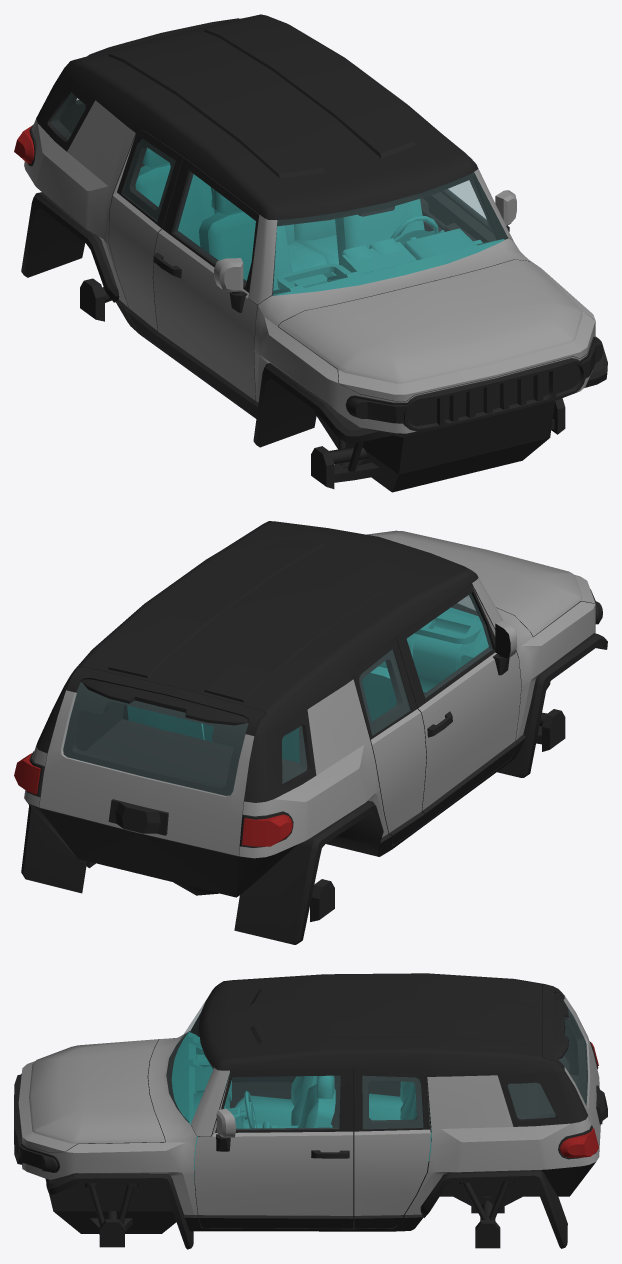
The model's file is Offroad_2.FBX.
3 views of the same model, one above another, from view 1: azimuth 30°, elevation 25°; view 2: azimuth 150°, elevation 25°; view 3: azimuth 270°, elevation 25° (orthographic). The views are drawn at different scales.
Parts seen in each view (by area): view 1: Offroad_2_Roof, Offroad_2, Offroad_2_Hood, Offroad_Dashboard, Offroad_2_Window_F, Offroad_2_Door_FR, Offroad_2_Door_RR, Offroad_2_Window_FR, Offroad_2_Suspension, Offroad_2_Door_FL, Offroad_2_Window_MR, Offroad_2_Trunk (+1 smaller); view 2: Offroad_2, Offroad_2_Roof, Offroad_2_Trunk, Offroad_2_Door_FR, Offroad_2_Window_R, Offroad_2_Door_RR, Offroad_2_Hood, Offroad_Dashboard, Offroad_2_Window_FR, Offroad_2_Window_MR, Offroad_2_Suspension, Offroad_2_Window_RR; view 3: Offroad_2, Offroad_2_Roof, Offroad_2_Door_FL, Offroad_2_Hood, Offroad_2_Door_RL, Offroad_Dashboard, Offroad_2_Window_FL, Offroad_2_Trunk, Offroad_2_Window_ML, Offroad_2_Suspension, Offroad_2_Window_F, Offroad_2_Door_FR (+3 smaller).
Part boxes in pixels (x1,y1,x2,y2): Offroad_2_Roof: [52, 15, 513, 304]; Offroad_2: [14, 87, 607, 492]; Offroad_2_Hood: [278, 259, 595, 400]; Offroad_Dashboard: [135, 147, 504, 295]; Offroad_2_Window_F: [272, 172, 507, 294]; Offroad_2_Door_FR: [153, 157, 259, 414]; Offroad_2_Door_RR: [109, 130, 183, 346]; Offroad_2_Window_FR: [174, 172, 255, 285]; Offroad_2_Suspension: [80, 278, 565, 488]; Offroad_2_Door_FL: [420, 189, 516, 242]; Offroad_2_Window_MR: [122, 139, 175, 220]; Offroad_2_Trunk: [59, 14, 265, 133]; Offroad_2: [14, 589, 607, 944]; Offroad_2_Roof: [52, 521, 502, 762]; Offroad_2_Trunk: [39, 667, 265, 856]; Offroad_2_Door_FR: [396, 584, 521, 826]; Offroad_2_Window_R: [63, 683, 248, 795]; Offroad_2_Door_RR: [353, 637, 426, 844]; Offroad_2_Hood: [367, 530, 594, 636]; Offroad_Dashboard: [127, 607, 488, 762]; Offroad_2_Window_FR: [407, 594, 492, 697]; Offroad_2_Window_MR: [359, 649, 410, 735]; Offroad_2_Suspension: [86, 709, 565, 921]; Offroad_2_Window_RR: [282, 726, 306, 783]; Offroad_2: [14, 1003, 600, 1249]; Offroad_2_Roof: [191, 973, 575, 1136]; Offroad_2_Door_FL: [194, 1068, 354, 1228]; Offroad_2_Hood: [18, 1039, 165, 1152]; Offroad_2_Door_RL: [354, 1068, 430, 1228]; Offroad_Dashboard: [171, 1032, 431, 1184]; Offroad_2_Window_FL: [224, 1076, 340, 1129]; Offroad_2_Trunk: [542, 984, 607, 1155]; Offroad_2_Window_ML: [362, 1076, 423, 1128]; Offroad_2_Suspension: [83, 1181, 514, 1248]; Offroad_2_Window_F: [166, 998, 213, 1123]; Offroad_2_Door_FR: [230, 1070, 340, 1127].
Size of the model in its own units: 211 by 167 by 449.
